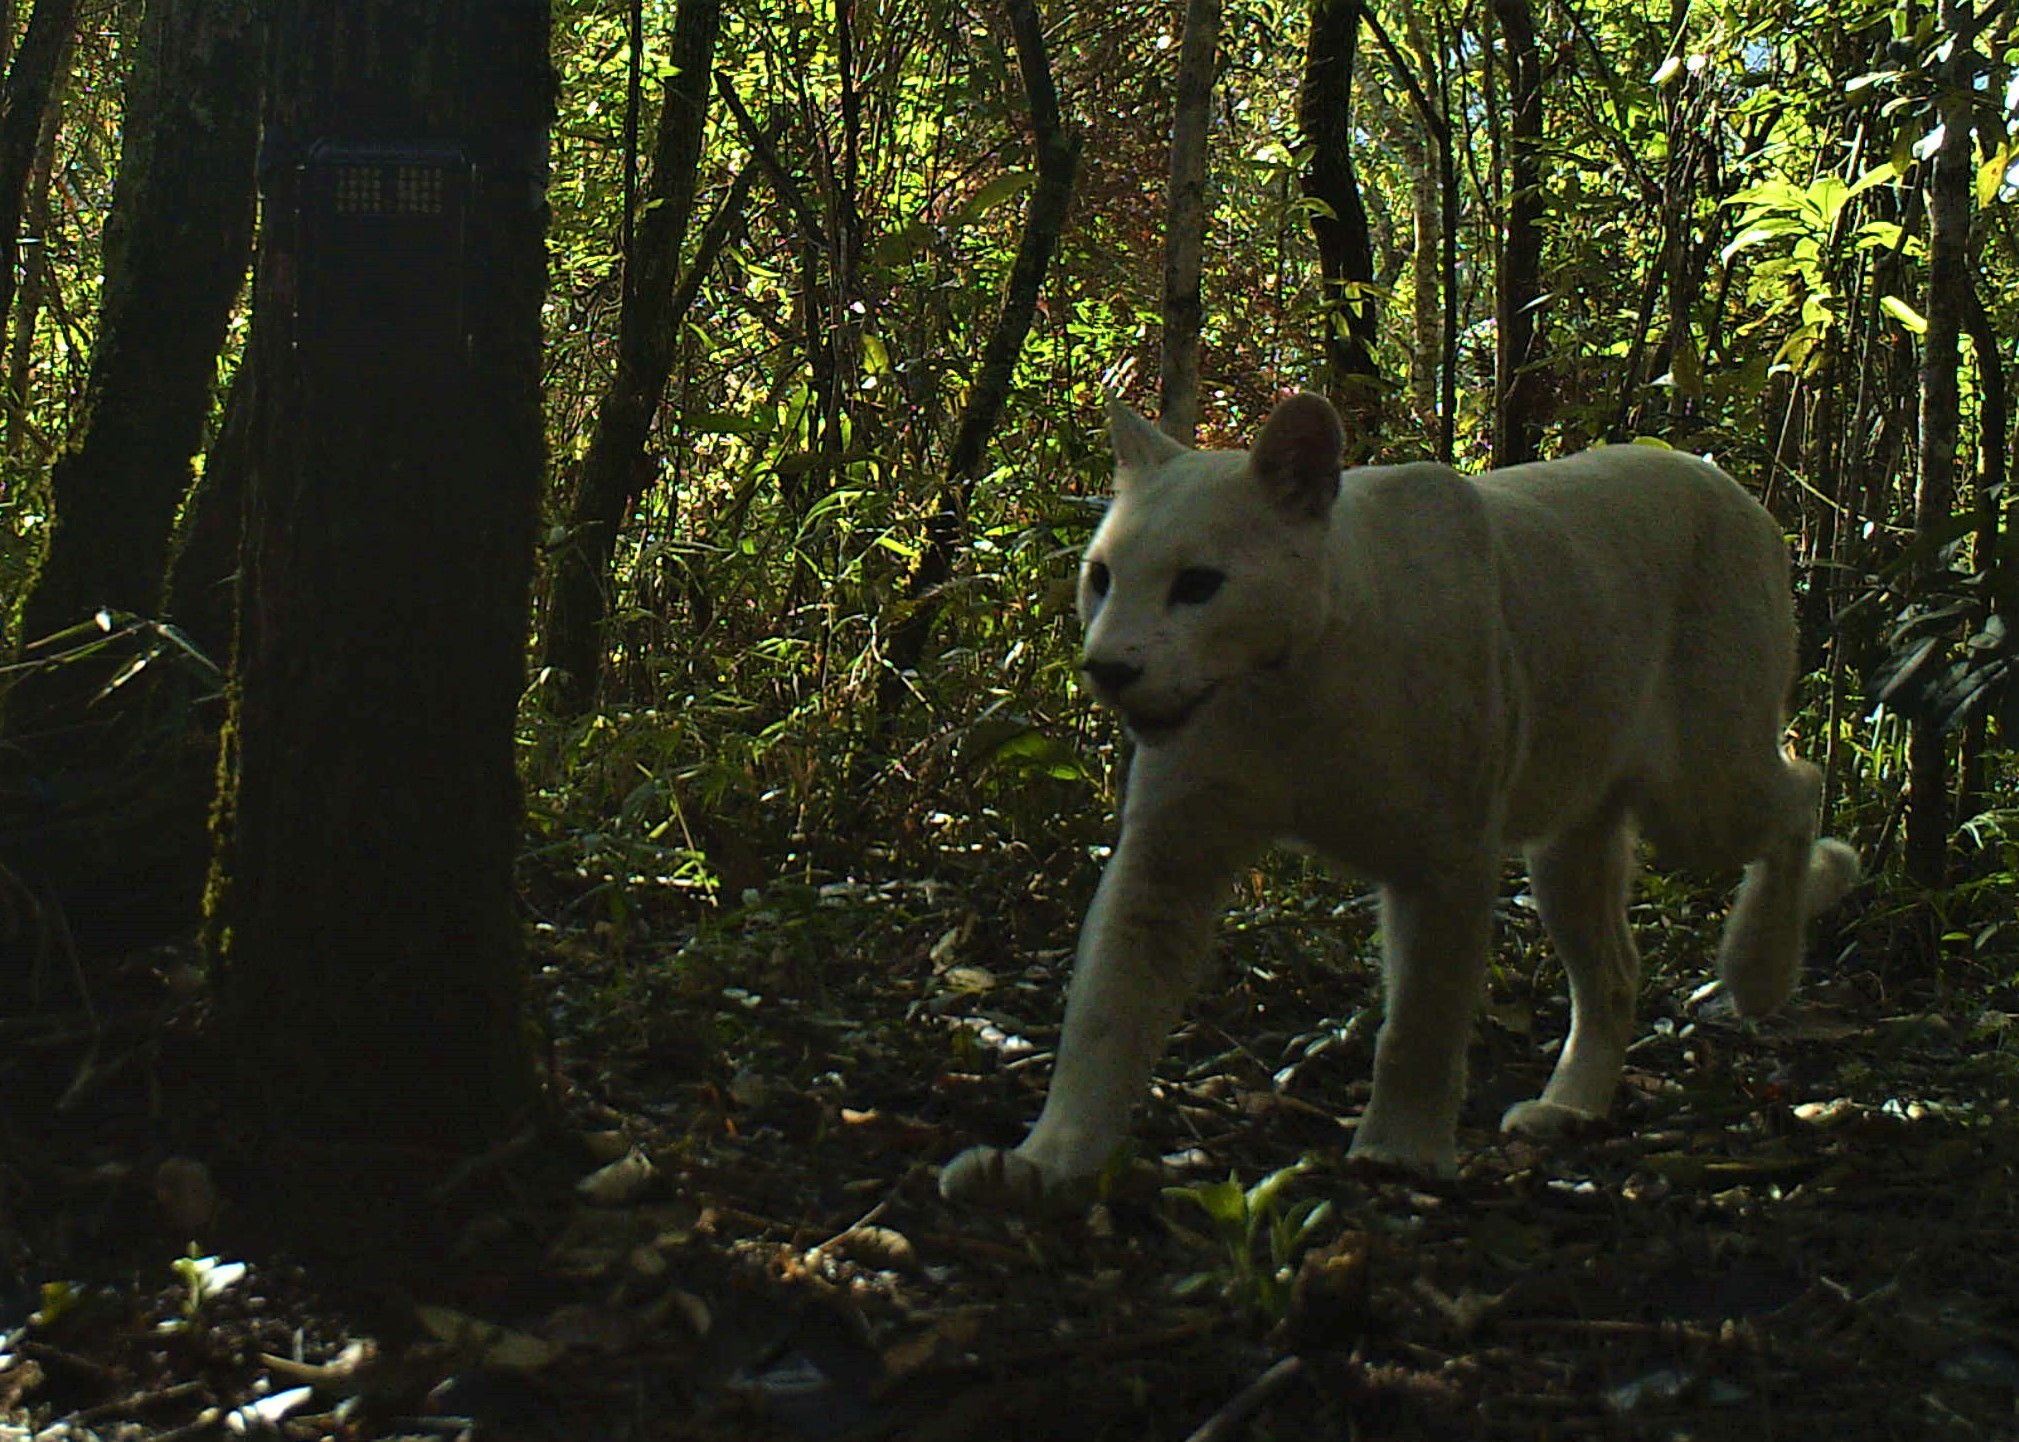OncaParda: (919, 396, 1875, 1227)
